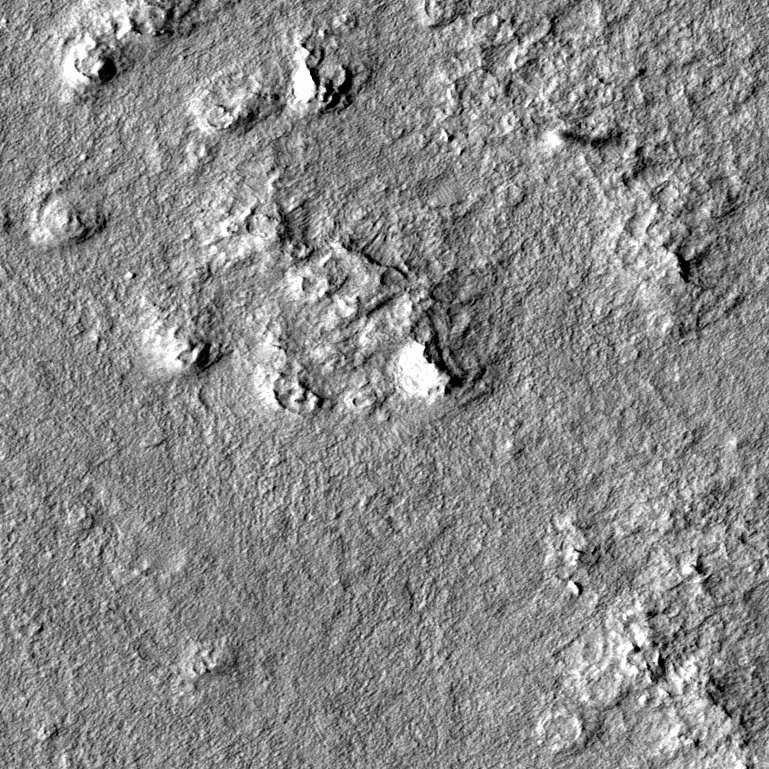dust_devil: (545, 126, 624, 151)
